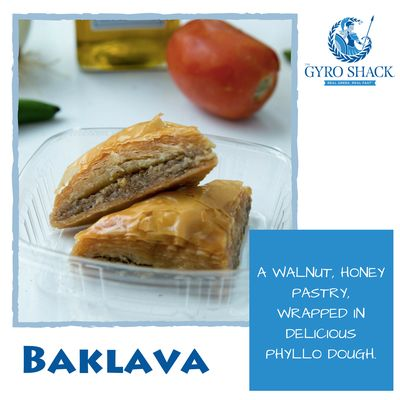soup: (48, 113, 219, 229), (71, 180, 253, 272)
